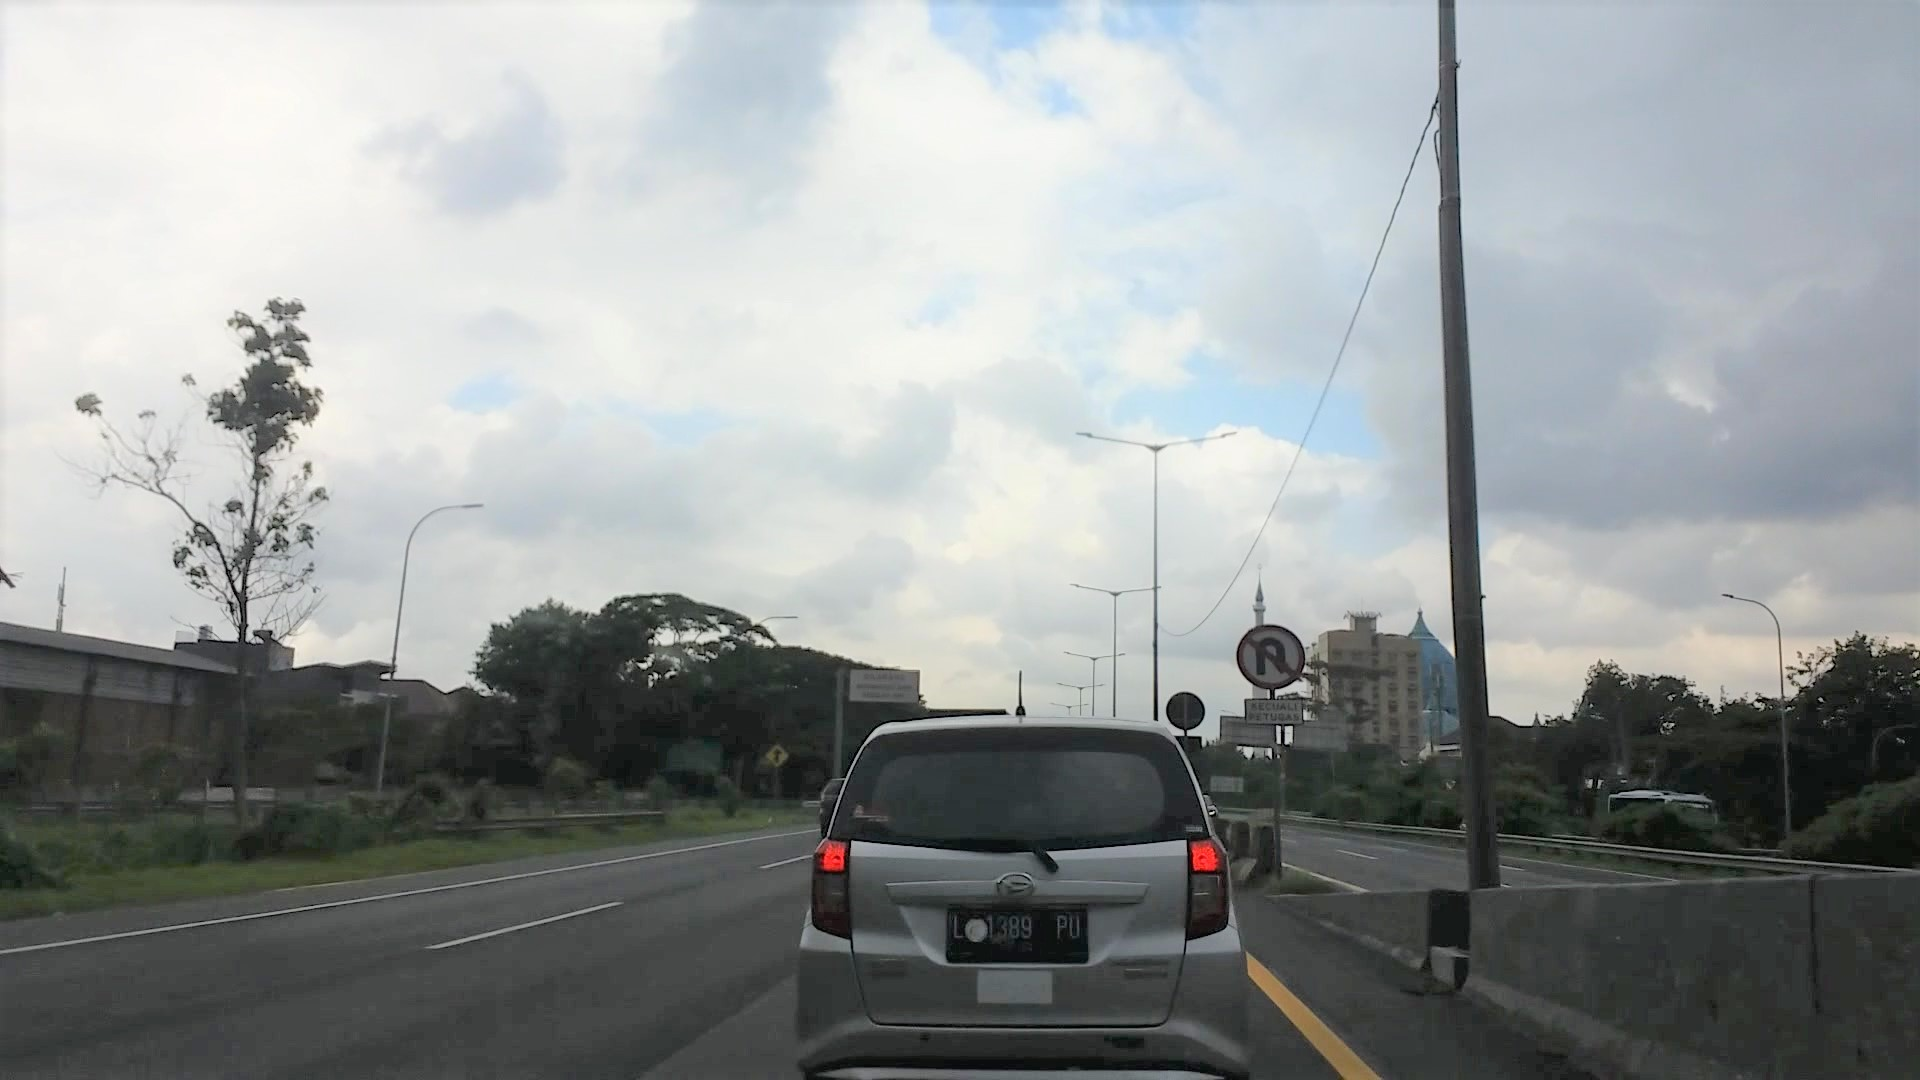plate_positive: (945, 905, 1089, 964)
